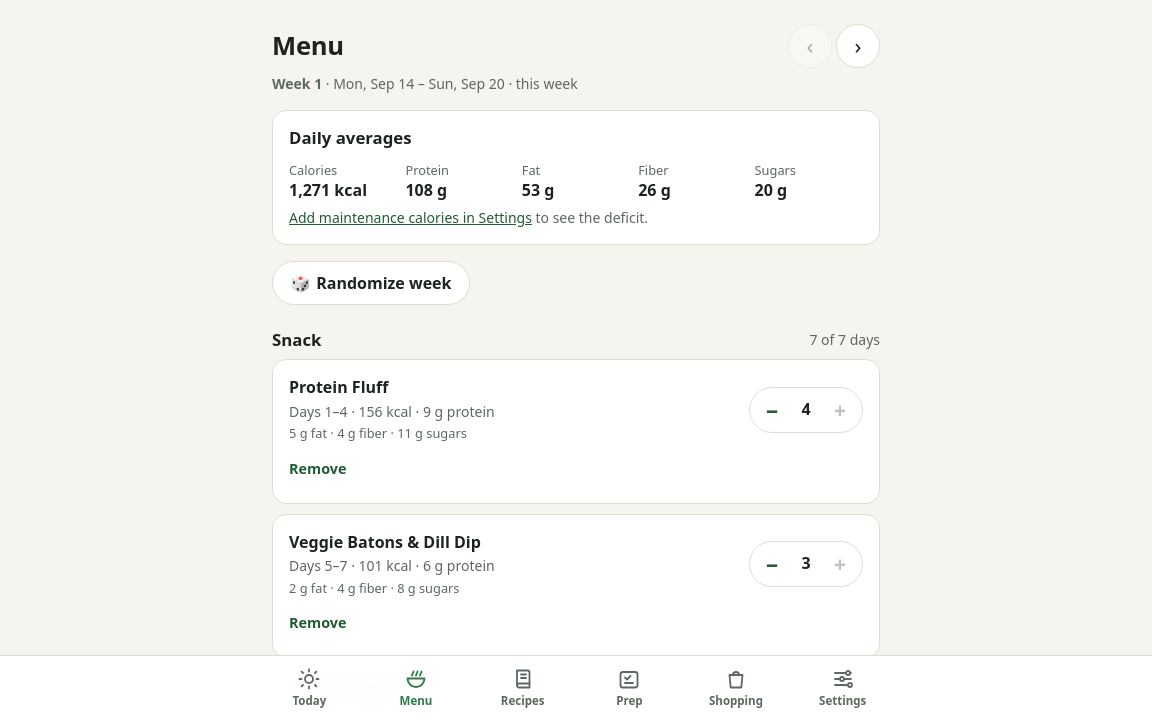
it: randomize week › fills each meal with different random items, and Undo puts the menu back
This screenshot has width=1152, height=720.
What coordinates should you click on to do the following:
click the button "🎲Randomize week"
I would click on:
 (371, 283)
Its box is 272,261 -> 470,305.
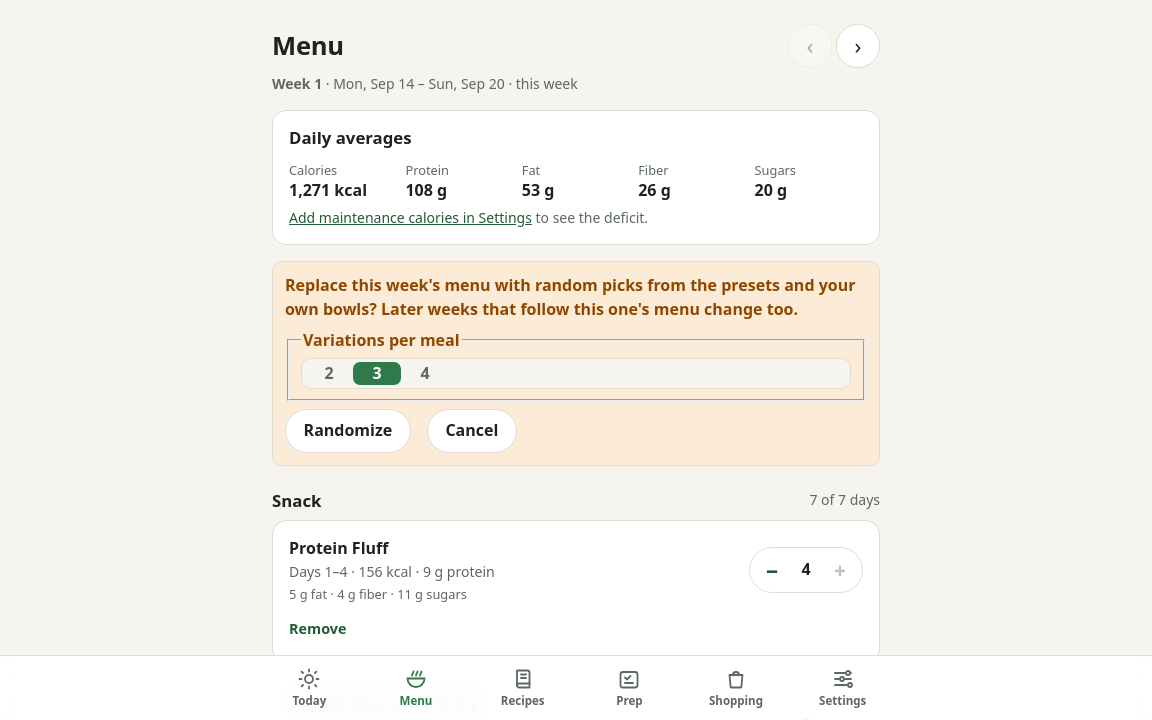
What coordinates should you click on to do the following:
click the radio button labelled "2"
I would click on:
 (329, 372)
Its box is 324,362 -> 334,384.
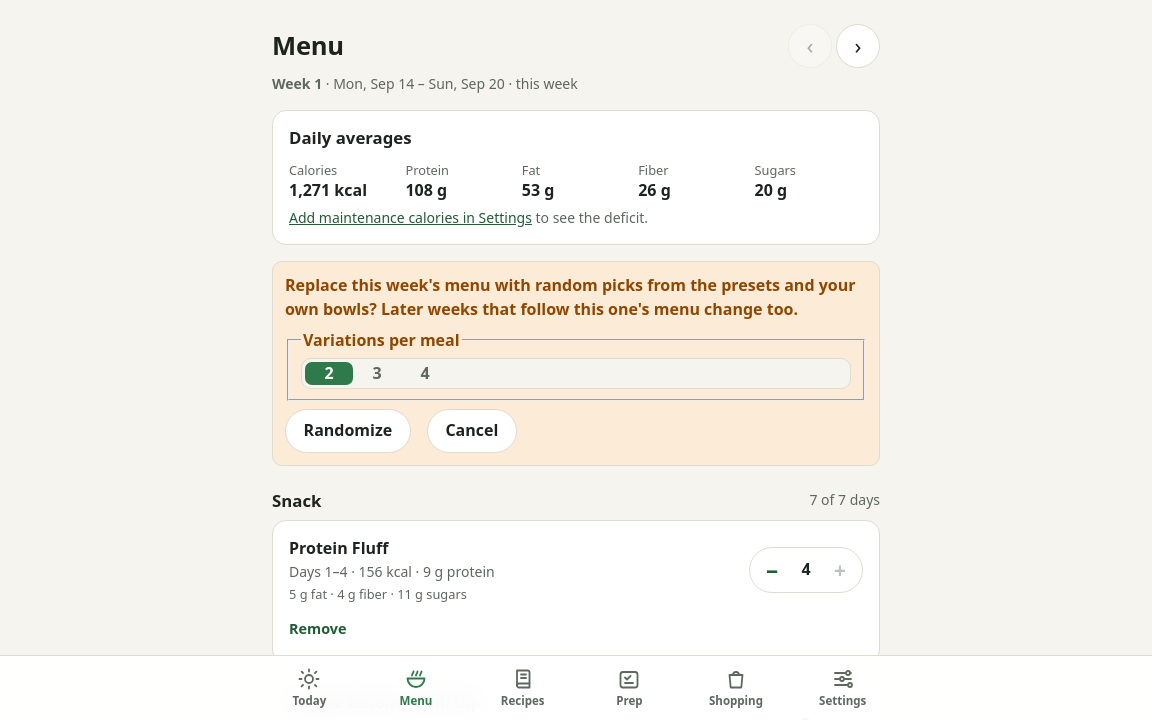
What coordinates should you click on to do the following:
click the button "Randomize"
I would click on:
 (348, 431)
Its box is 285,409 -> 411,453.
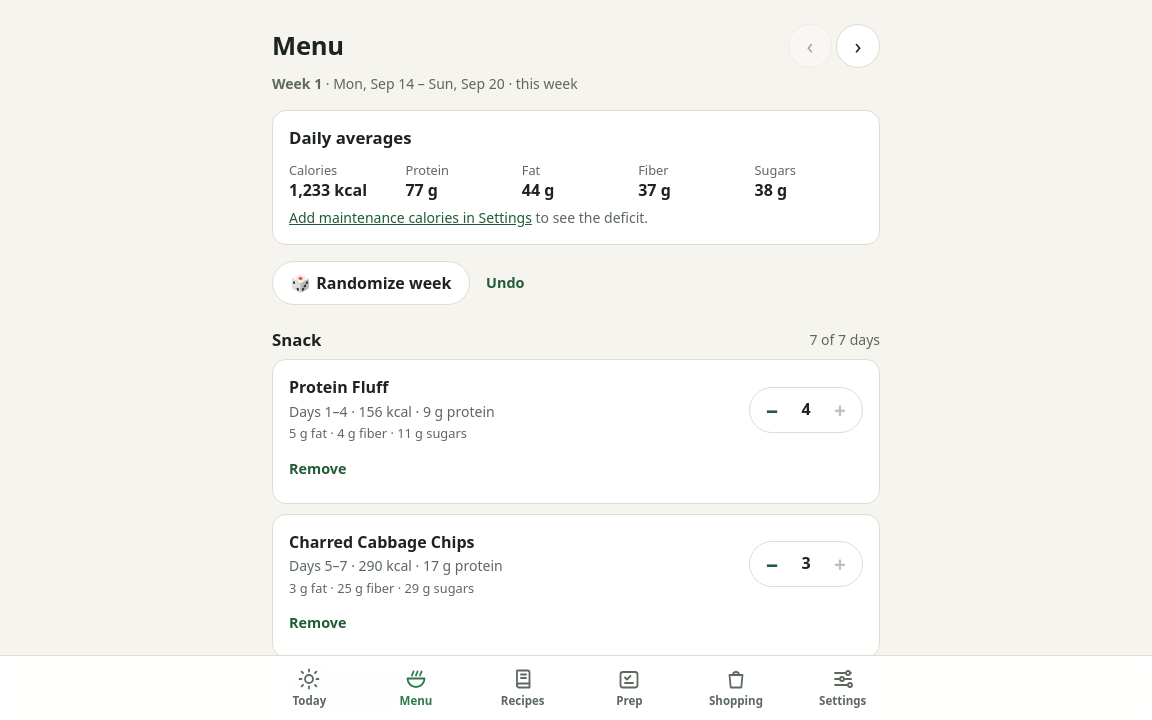
What coordinates should you click on to do the following:
click the button "Undo"
I would click on:
 (505, 283)
Its box is 486,265 -> 524,301.
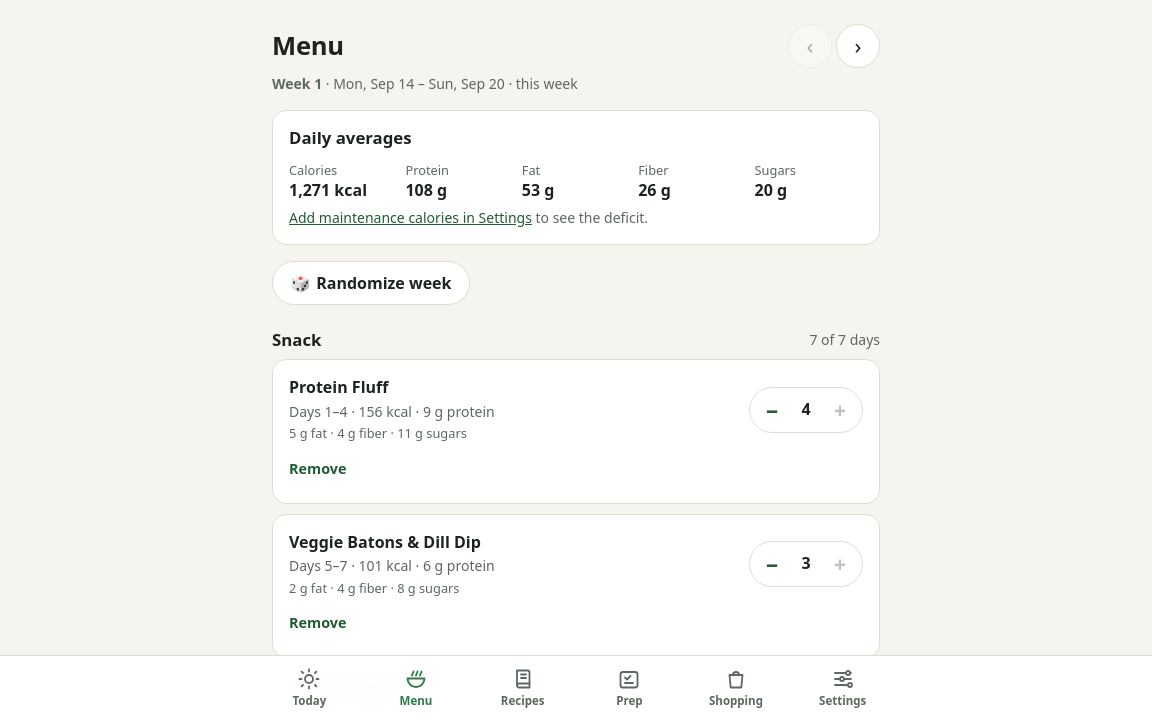
Result: the button "Undo" is gone
